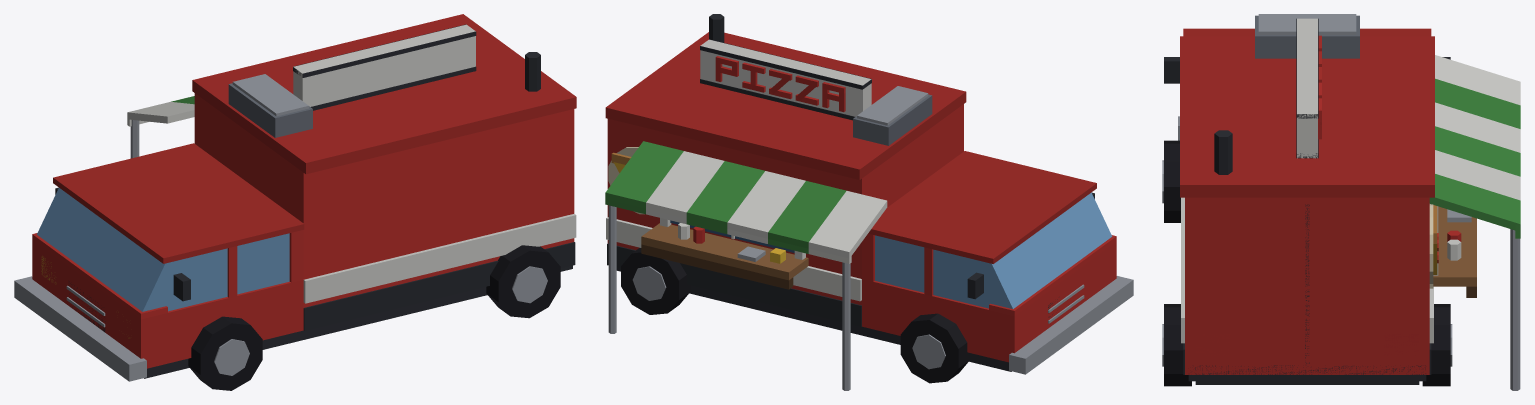
File: Decor_FoodTruck_TruckPizza.fbx
3 views of the same model, side by side, from view 1: azimuth 30°, elevation 25°; view 2: azimuth 150°, elevation 25°; view 3: azimuth 270°, elevation 25° (orthographic). The views are drawn at different scales.
Visible parts, largest first — view 1: TruckPizza_Body; view 2: TruckPizza_Body; view 3: TruckPizza_Body.
Part boxes in pixels (left/top/right/bottom): TruckPizza_Body: left=14, top=14, right=576, bottom=390; TruckPizza_Body: left=605, top=14, right=1133, bottom=390; TruckPizza_Body: left=1162, top=14, right=1520, bottom=390.
Size of the model in its own units: 16.65 by 8.6 by 10.25.
